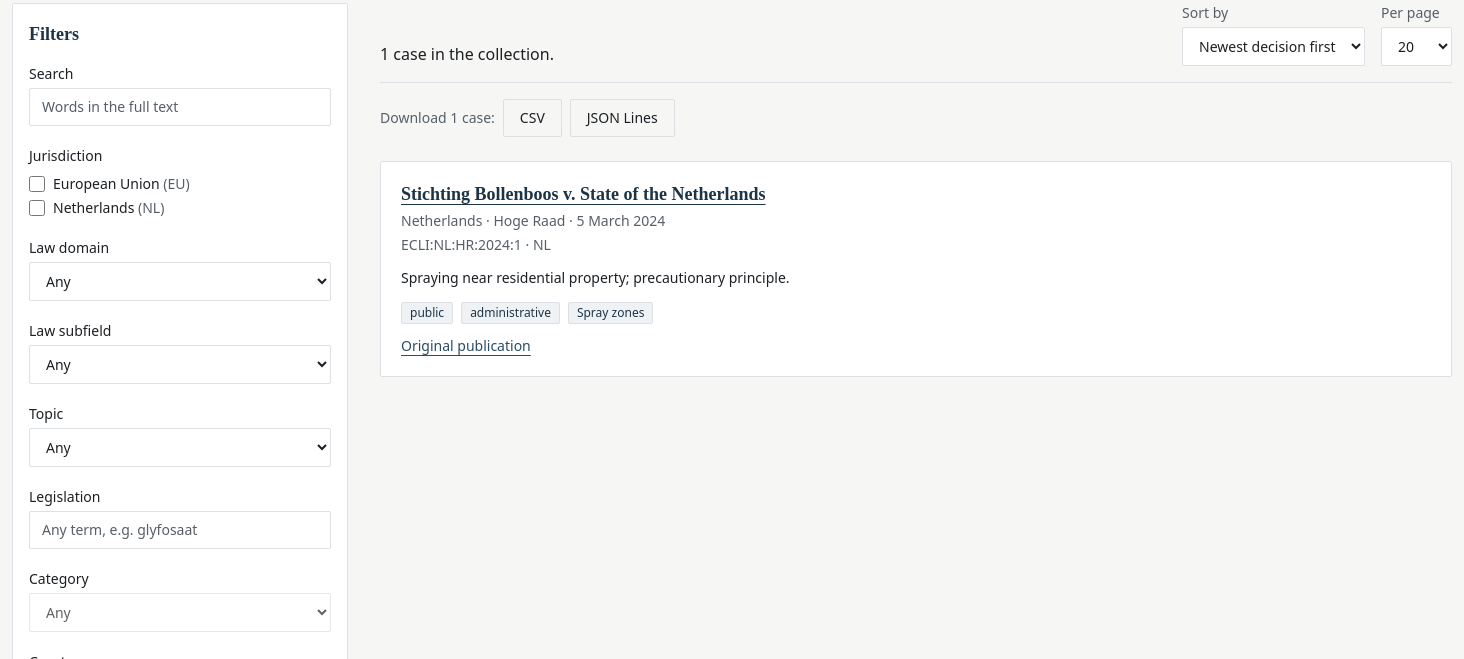
Scenario: AllCases › composes several filters into one URL and one request
expect the checkbox labelled "Netherlands (NL)" is shown: met, box [29,200,45,216]
Type "glyfosaat" into the search field labelled "Search" at (180, 107), box [29,88,331,126]
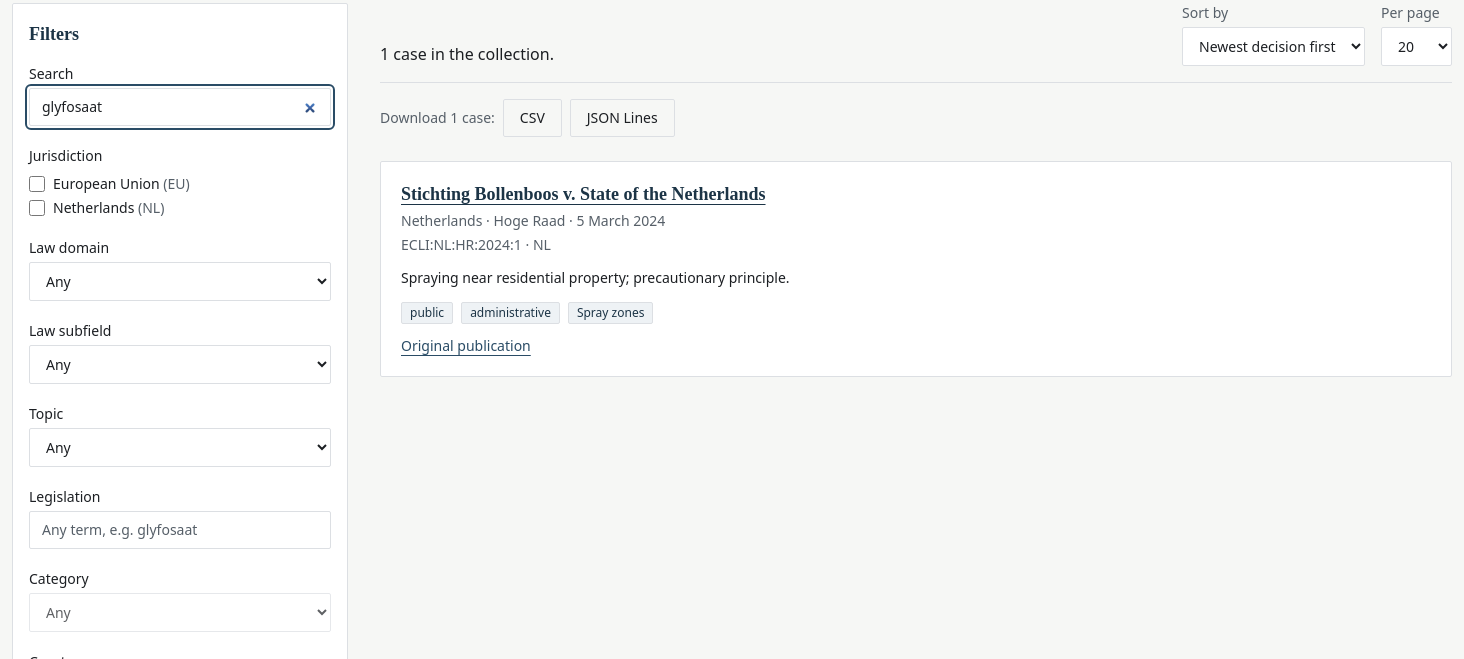
Click the checkbox labelled "Netherlands (NL)" at (37, 208), box [29,200,45,216]
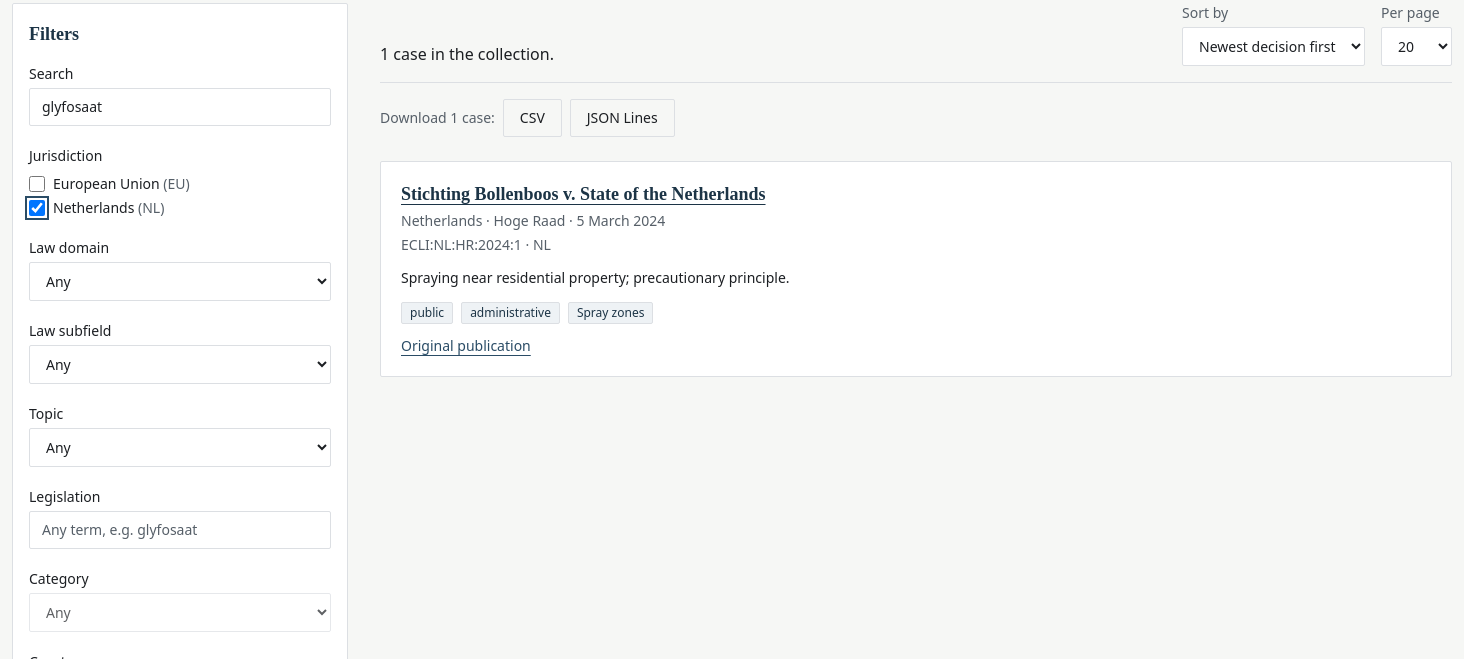
Click the checkbox labelled "European Union (EU)" at (37, 184), box [29,176,45,192]
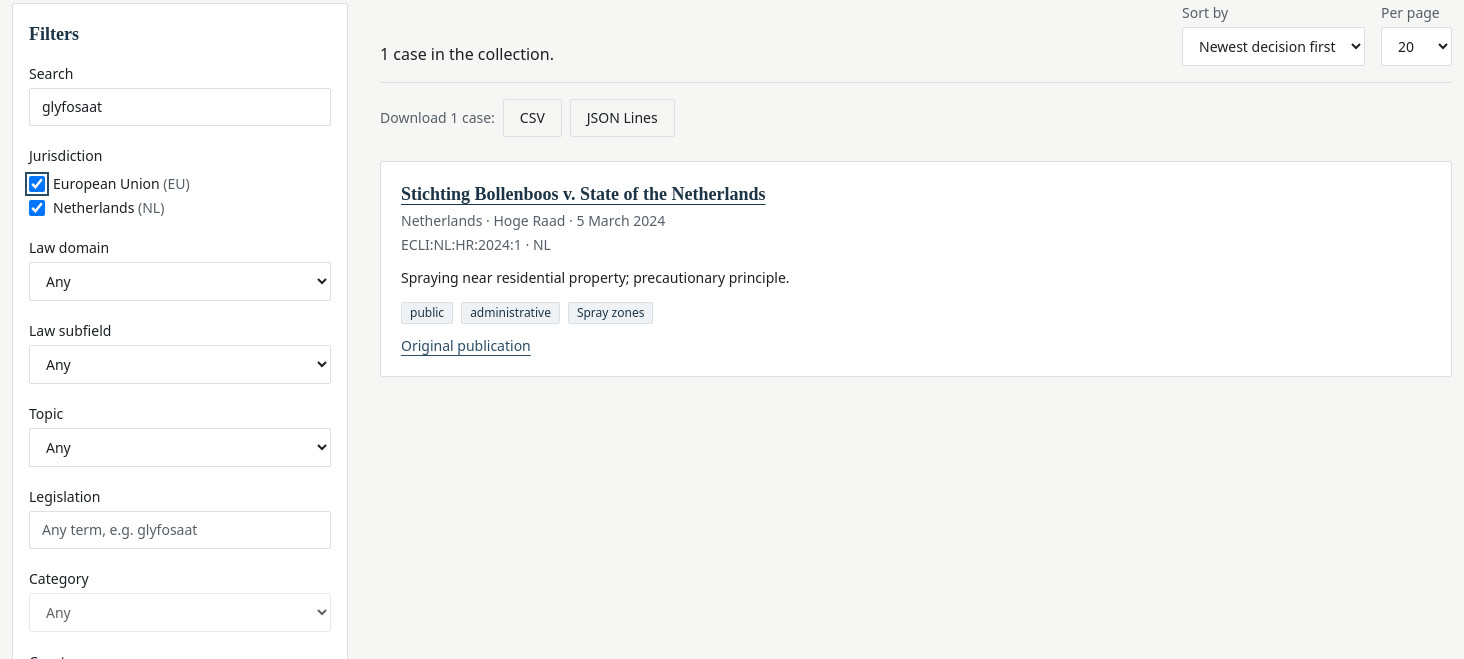
Select "public" in the dropdown labelled "Law domain" at (180, 282), box [29,262,331,301]
(page scrolled)
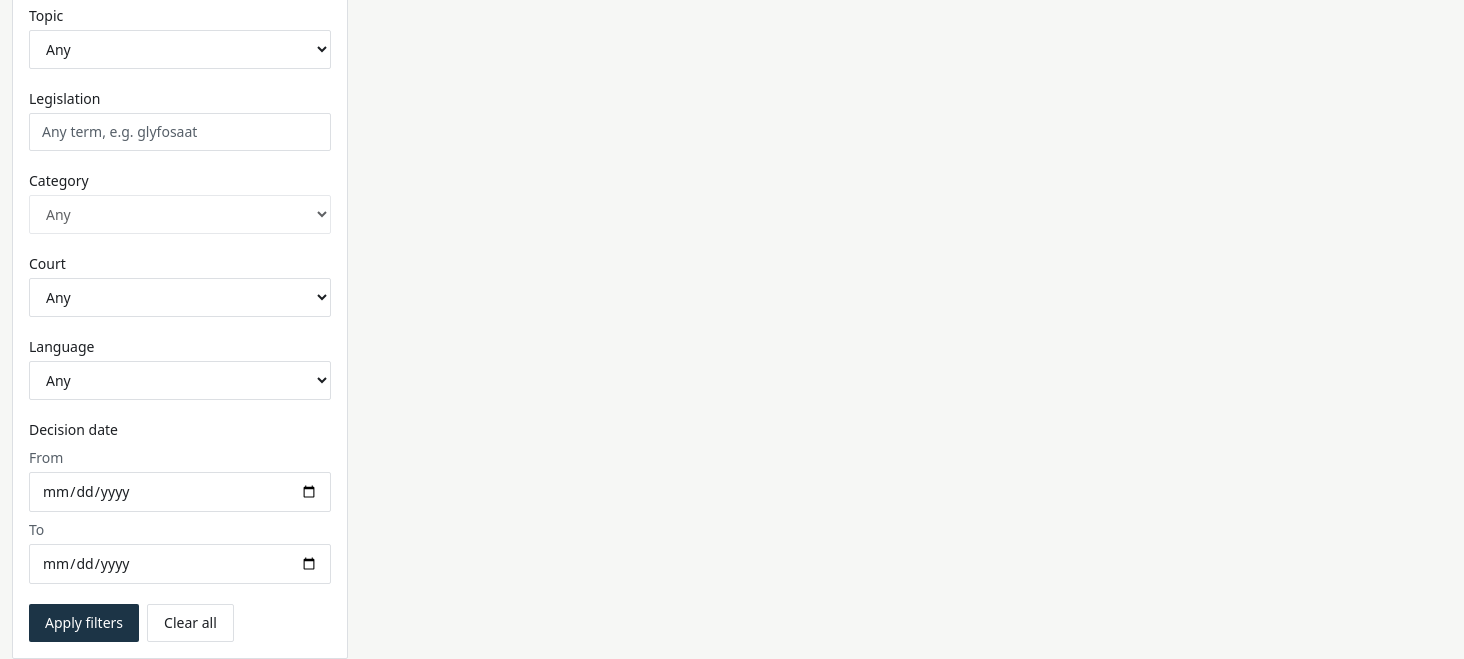
Click the button "Apply filters" at (84, 623), box [29,604,139,642]
(page scrolled)
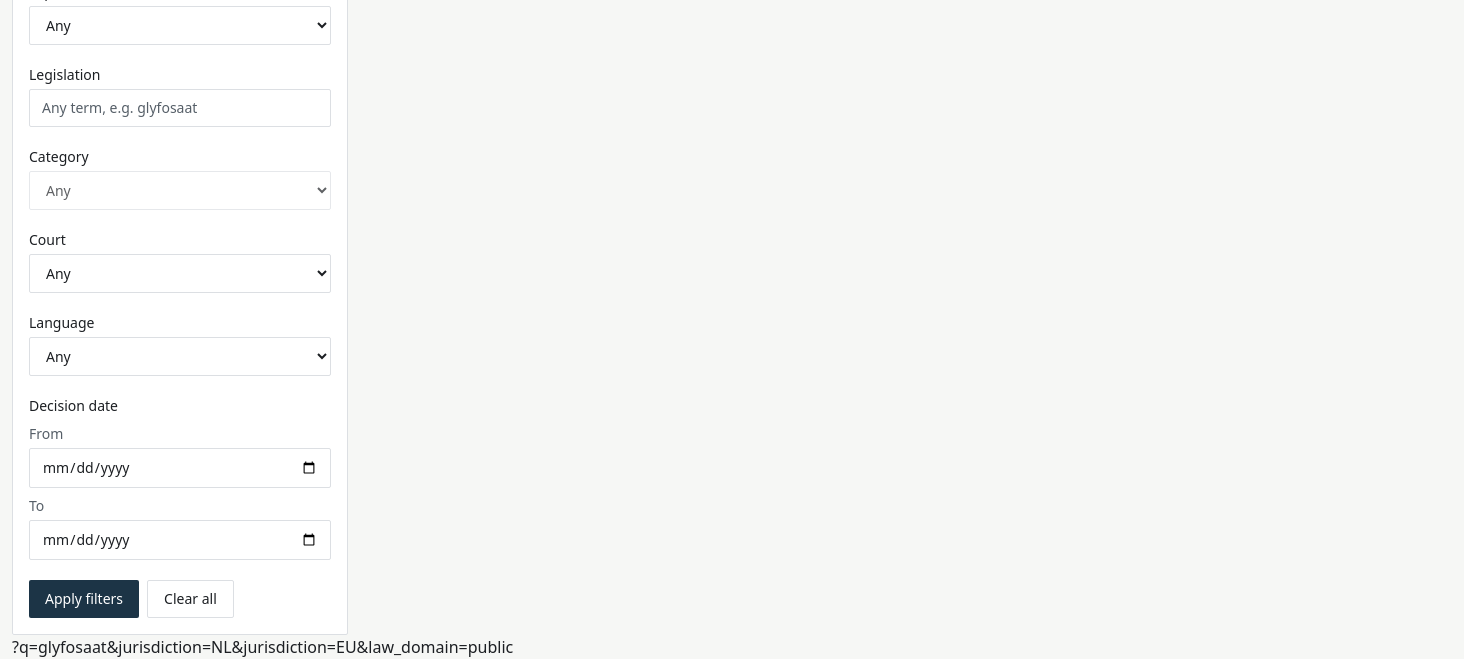
expect the text with test id "location" reads "?q=glyfosaat&jurisdiction=NL&jurisdiction=EU&law_domain=public": met, box [12,636,513,658]
